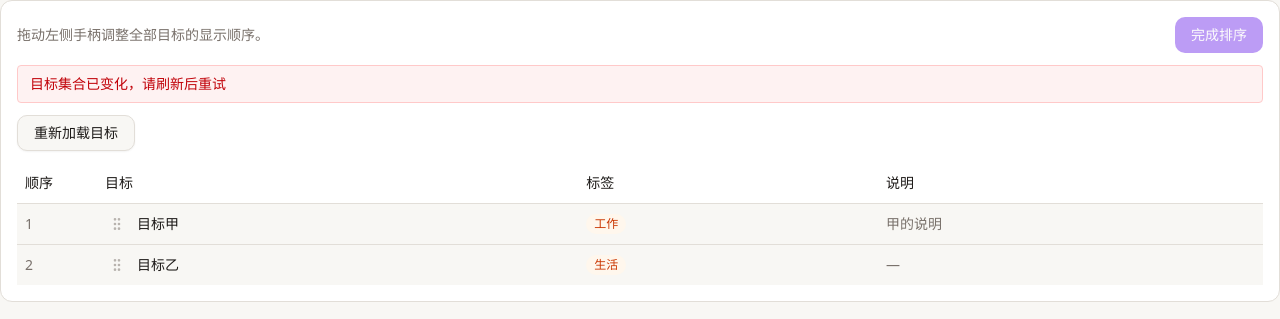
GoalOrderEditor › requires a reload after a 409 rollback and adopts the canonical list before allowing another save
The image size is (1280, 319).
Expected: the text "目标甲" is shown, [137,214,179,234]
Click the button "重新加载目标" at [76, 133], box [17,115,135,151]
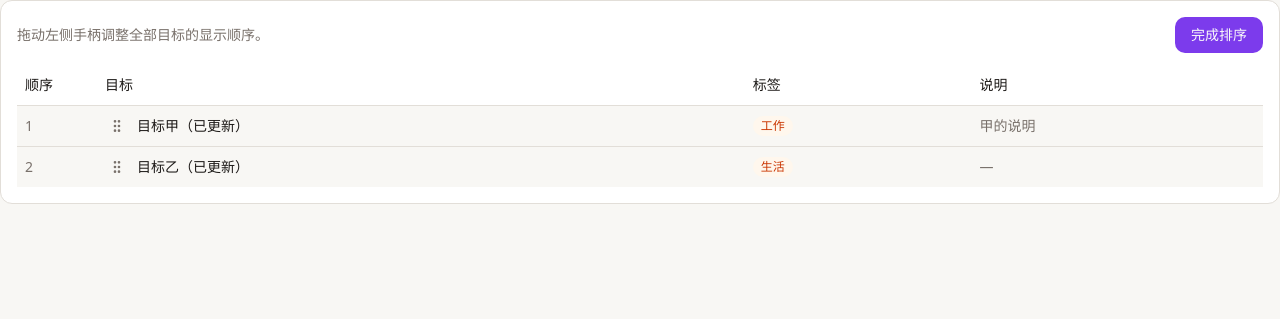
Result: the text "目标甲（已更新）" is shown at [137,116,249,136]
Result: the button "完成排序" is enabled at [1175,17,1263,53]
